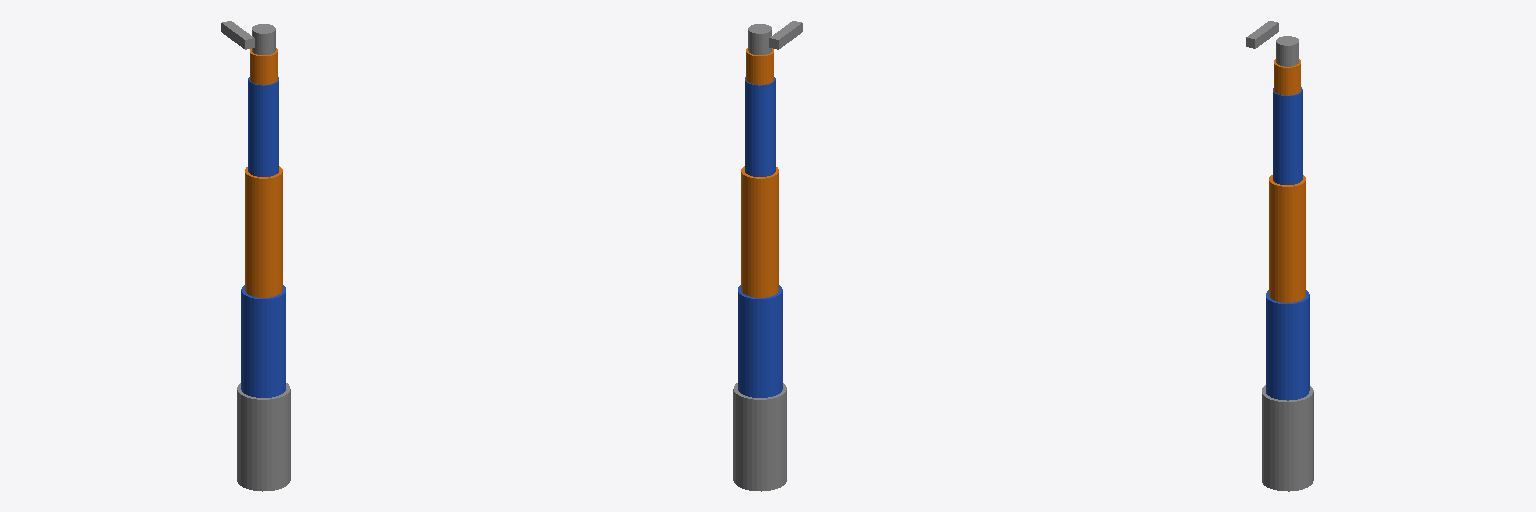
robot.urdf — moveo:
<?xml version="1.0"?>
<!--
  moveo.urdf — clean kinematic URDF for the BCN3D Moveo (5-DOF), matching the
  ikpy MOVEO_CHAIN in moveo_publisher.py (single source of truth).

  Replaces the CAD-exported moveo_clean.urdf, which had a spurious ~0.24 m base
  Y-offset and messy CAD frame rotations. This model:
    * stacks straight up +Z at home (all joints 0) — EE at (0, 0, 0.797)
    * clean joint axes: J1 yaw (Z), J2/J3/J5 pitch (X), J4 wrist roll (Z)
    * link lengths (m): base->J1 0.170 (measured); CAD joint-to-joint for the rest:
        J1->J2 0.183, J2->J3 0.221, J3->J4 0.170, J4->J5 0.053, J5->tip 0.040
  Simple cylinder visuals so it displays correctly in RViz.
-->
<robot name="moveo">

  <material name="grey">  <color rgba="0.6 0.6 0.6 1"/></material>
  <material name="blue">  <color rgba="0.2 0.4 0.8 1"/></material>
  <material name="orange"><color rgba="0.9 0.5 0.1 1"/></material>

  <!-- base column: base plate up to the waist (J1) axis -->
  <link name="base_link">
    <visual>
      <origin xyz="0 0 0.085" rpy="0 0 0"/>
      <geometry><cylinder radius="0.045" length="0.170"/></geometry>
      <material name="grey"/>
    </visual>
    <inertial><mass value="1.0"/><inertia ixx="0.01" iyy="0.01" izz="0.01" ixy="0" ixz="0" iyz="0"/></inertial>
  </link>

  <joint name="Joint_1" type="revolute">    <!-- waist / yaw -->
    <parent link="base_link"/><child link="Link_1"/>
    <origin xyz="0 0 0.170" rpy="0 0 0"/>
    <axis xyz="0 0 1"/>
    <limit lower="-2.00" upper="2.40" effort="10" velocity="2"/>
  </joint>

  <link name="Link_1">                       <!-- waist -> shoulder -->
    <visual>
      <origin xyz="0 0 0.0915" rpy="0 0 0"/>
      <geometry><cylinder radius="0.038" length="0.183"/></geometry>
      <material name="blue"/>
    </visual>
    <inertial><mass value="0.8"/><inertia ixx="0.005" iyy="0.005" izz="0.005" ixy="0" ixz="0" iyz="0"/></inertial>
  </link>

  <joint name="Joint_2" type="revolute">    <!-- shoulder / pitch -->
    <parent link="Link_1"/><child link="Link_2"/>
    <origin xyz="0 0 0.183" rpy="0 0 0"/>
    <axis xyz="1 0 0"/>
    <limit lower="-1.95" upper="1.95" effort="10" velocity="2"/>
  </joint>

  <link name="Link_2">                       <!-- upper arm: shoulder -> elbow -->
    <visual>
      <origin xyz="0 0 0.1105" rpy="0 0 0"/>
      <geometry><cylinder radius="0.032" length="0.221"/></geometry>
      <material name="orange"/>
    </visual>
    <inertial><mass value="0.6"/><inertia ixx="0.004" iyy="0.004" izz="0.004" ixy="0" ixz="0" iyz="0"/></inertial>
  </link>

  <joint name="Joint_3" type="revolute">    <!-- elbow / pitch -->
    <parent link="Link_2"/><child link="Link_3"/>
    <origin xyz="0 0 0.221" rpy="0 0 0"/>
    <axis xyz="1 0 0"/>
    <limit lower="-2.20" upper="2.20" effort="10" velocity="2"/>
  </joint>

  <link name="Link_3">                       <!-- forearm: elbow -> wrist roll -->
    <visual>
      <origin xyz="0 0 0.085" rpy="0 0 0"/>
      <geometry><cylinder radius="0.026" length="0.170"/></geometry>
      <material name="blue"/>
    </visual>
    <inertial><mass value="0.4"/><inertia ixx="0.002" iyy="0.002" izz="0.002" ixy="0" ixz="0" iyz="0"/></inertial>
  </link>

  <joint name="Joint_4" type="revolute">    <!-- wrist roll (about forearm) -->
    <parent link="Link_3"/><child link="Link_4"/>
    <origin xyz="0 0 0.170" rpy="0 0 0"/>
    <axis xyz="0 0 1"/>
    <limit lower="-3.14" upper="3.14" effort="10" velocity="2"/>
  </joint>

  <link name="Link_4">                       <!-- wrist roll -> wrist pitch -->
    <visual>
      <origin xyz="0 0 0.0265" rpy="0 0 0"/>
      <geometry><cylinder radius="0.024" length="0.053"/></geometry>
      <material name="orange"/>
    </visual>
    <inertial><mass value="0.2"/><inertia ixx="0.001" iyy="0.001" izz="0.001" ixy="0" ixz="0" iyz="0"/></inertial>
  </link>

  <joint name="Joint_5" type="revolute">    <!-- wrist pitch -->
    <parent link="Link_4"/><child link="Link_5"/>
    <origin xyz="0 0 0.053" rpy="0 0 0"/>
    <axis xyz="1 0 0"/>
    <limit lower="-1.75" upper="1.75" effort="10" velocity="2"/>
  </joint>

  <link name="Link_5">                       <!-- wrist pitch -> tool tip -->
    <visual>
      <origin xyz="0 0 0.020" rpy="0 0 0"/>
      <geometry><cylinder radius="0.020" length="0.040"/></geometry>
      <material name="grey"/>
    </visual>
    <inertial><mass value="0.15"/><inertia ixx="0.0005" iyy="0.0005" izz="0.0005" ixy="0" ixz="0" iyz="0"/></inertial>
  </link>

  <joint name="Joint_ee" type="fixed">       <!-- tool / end-effector tip -->
    <parent link="Link_5"/><child link="ee_link"/>
    <origin xyz="0 0 0.040" rpy="0 0 0"/>
  </joint>
  <link name="ee_link"/>

  <!-- ===== Eye-in-hand stereo camera mount (rigid to the EE) =====
       From the Vision Mount + EE Adapter CAD, relative to the EE frame:
       stereo midpoint 50 mm back (-X), cameras 60 mm apart along Y
       (right +0.03, left -0.03). No Z offset specified -> taken at the EE frame.
       These are the camera BODY centers. The *optical* frames (camera_*_optical)
       carry the lens viewing direction for the cartesian go-to; their rpy is
       PROVISIONAL until the optical-axis orientation is confirmed. -->
  <joint name="camera_mount_joint" type="fixed">
    <parent link="ee_link"/><child link="camera_mount"/>
    <origin xyz="-0.05 0 0" rpy="0 0 0"/>
  </joint>
  <link name="camera_mount">
    <visual>
      <origin xyz="0 0 0" rpy="0 0 0"/>
      <geometry><box size="0.018 0.080 0.018"/></geometry>
      <material name="grey"/>
    </visual>
  </link>

  <joint name="left_camera_joint" type="fixed">
    <parent link="camera_mount"/><child link="left_camera"/>
    <origin xyz="0 -0.03 0" rpy="0 0 0"/>
  </joint>
  <link name="left_camera">
    <visual><origin xyz="0 0 0" rpy="0 0 0"/>
      <geometry><box size="0.015 0.015 0.015"/></geometry><material name="blue"/></visual>
  </link>

  <joint name="right_camera_joint" type="fixed">
    <parent link="camera_mount"/><child link="right_camera"/>
    <origin xyz="0 0.03 0" rpy="0 0 0"/>
  </joint>
  <link name="right_camera">
    <visual><origin xyz="0 0 0" rpy="0 0 0"/>
      <geometry><box size="0.015 0.015 0.015"/></geometry><material name="orange"/></visual>
  </link>

</robot>

--- Facts derived from the render (not from the file) ---
3 views of the same robot in one strip: view 1: azimuth 30°, elevation 25°; view 2: azimuth 150°, elevation 25°; view 3: azimuth 330°, elevation 25° (orthographic).
Robot: moveo — 10 links, 9 joints (5 revolute, 4 fixed); root link base_link; default pose: all joints at 0.
Visible links, largest first — view 1: base_link, Link_2, Link_1, Link_3, Link_4, Link_5, camera_mount; view 2: base_link, Link_2, Link_1, Link_3, Link_4, Link_5, camera_mount; view 3: base_link, Link_2, Link_1, Link_3, Link_4, Link_5.
Boxes of the visible links, x1,y1,x2,y2 form: base_link: (237, 383, 290, 491); Link_2: (245, 166, 282, 297); Link_1: (241, 285, 285, 397); Link_3: (248, 77, 278, 176); Link_4: (250, 48, 277, 84); Link_5: (252, 24, 275, 54); camera_mount: (221, 21, 254, 49); base_link: (733, 383, 786, 491); Link_2: (741, 166, 778, 297); Link_1: (738, 285, 782, 397); Link_3: (745, 77, 775, 176); Link_4: (746, 48, 773, 84); Link_5: (748, 24, 771, 54); camera_mount: (769, 21, 802, 49); base_link: (1262, 385, 1313, 491); Link_2: (1269, 175, 1305, 302); Link_1: (1266, 290, 1309, 400); Link_3: (1273, 87, 1302, 184); Link_4: (1274, 59, 1300, 95); Link_5: (1276, 36, 1298, 66).
Size in the robot's own frame: 0.104 by 0.09 by 0.846 metres.
Geometry: primitives only (box / cylinder / sphere), no mesh files.
